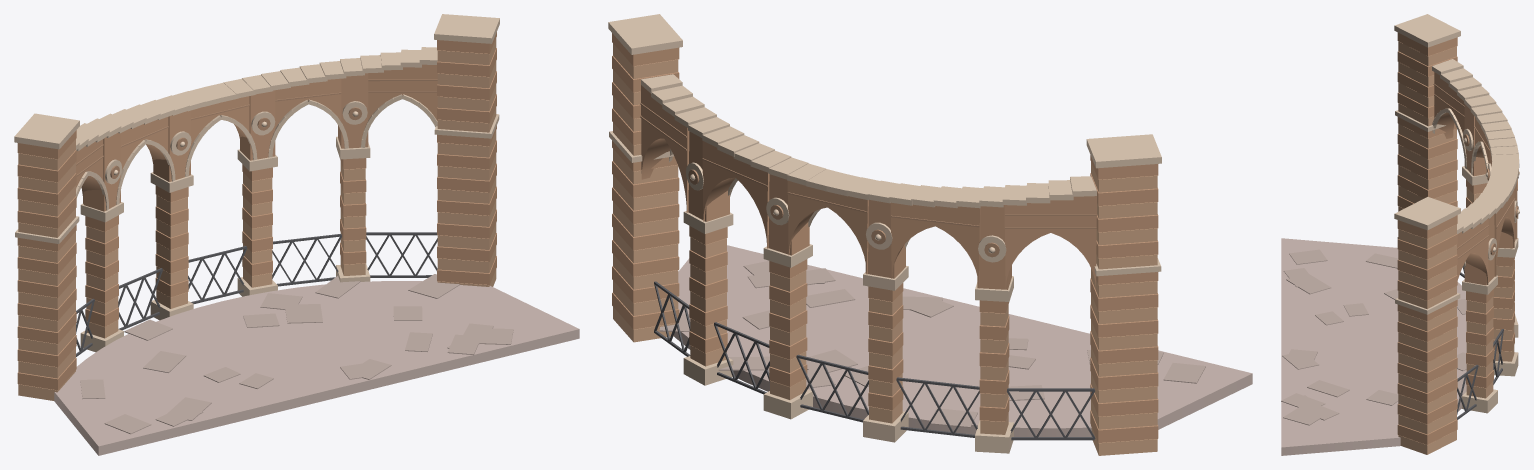
The picture shows the model from 3 angles, left to right: view 1: azimuth 30°, elevation 25°; view 2: azimuth 150°, elevation 25°; view 3: azimuth 270°, elevation 25°; orthographic projection. The views are drawn at different scales.
Visible parts, largest first — view 1: base; view 2: base; view 3: base.
Boxes of the visible parts, x1,y1,x2,y2 form: base: (14, 14, 579, 455); base: (608, 14, 1252, 455); base: (1281, 14, 1519, 455).
Bounding box in the file's own units: 10.7 × 5.47 × 5.11.
